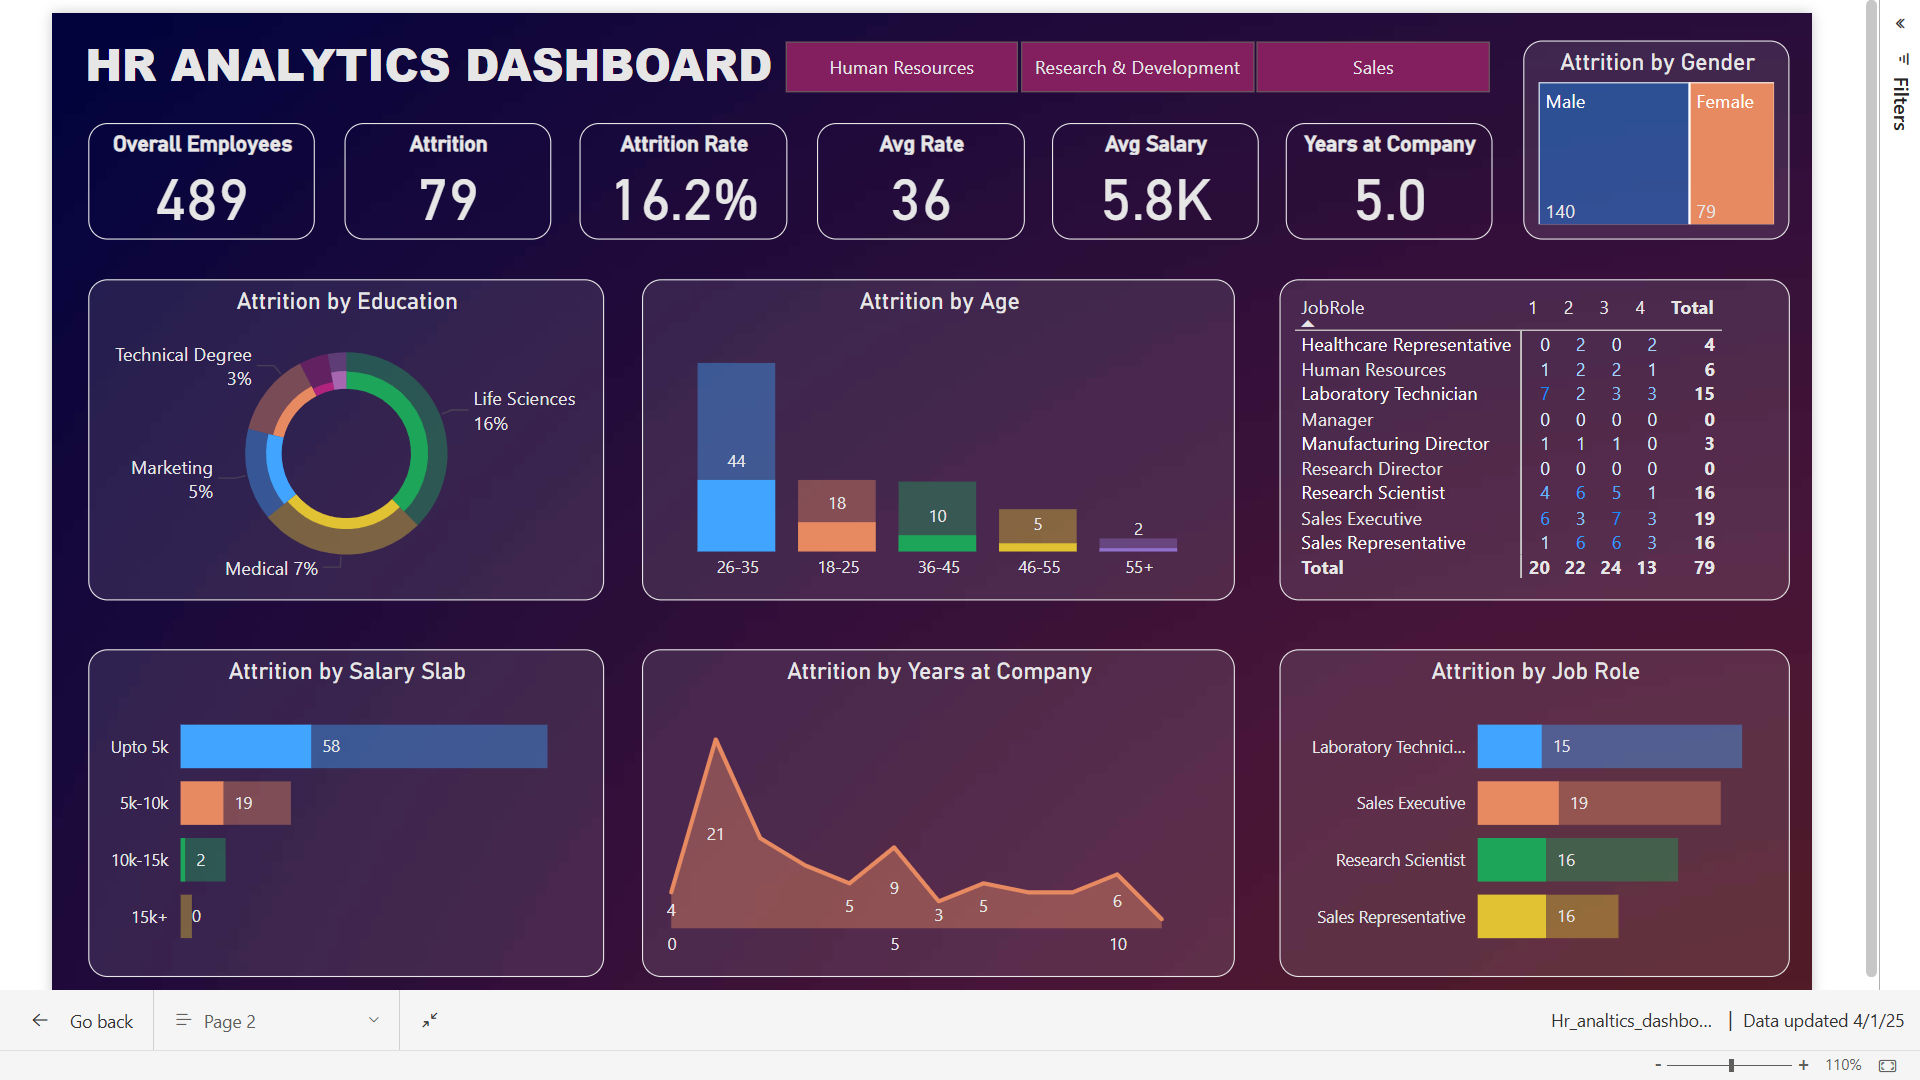

Layout of this report page (visuals, bound fields, positions):
{"tool":"powerbi","page":{"name":"Page 2","canvas":[1280,720],"ordinal":0},"visuals":[{"type":"card","title":"Overall Employees","fields":{"Values":["CountNonNull(HR_Analytics.EmpID)"]},"box":[26.2,80,165,85],"z":0},{"type":"card","title":"Avg Rate","fields":{"Values":["Avg(HR_Analytics.Age)"]},"box":[556.2,80,151.2,85],"z":1000},{"type":"card","title":"Attrition Rate","fields":{"Values":["HR_Analytics.AttritionRate"]},"box":[383.8,80,151.2,85],"z":2000},{"type":"card","title":"Attrition","fields":{"Values":["Sum(HR_Analytics.AttritionCount)"]},"box":[212.5,80,150,85],"z":3000},{"type":"card","title":"Avg Salary","fields":{"Values":["Avg(HR_Analytics.MonthlyIncome)"]},"box":[727.5,80,150,85],"z":4000},{"type":"card","title":"Years at Company","fields":{"Values":["Avg(HR_Analytics.YearsAtCompany)"]},"box":[897.5,80,150,85],"z":5000},{"type":"donutChart","title":"Attrition by Education","fields":{"Y":["Sum(HR_Analytics.AttritionCount)"],"Category":["HR_Analytics.EducationField"]},"box":[26.2,193.8,375,233.8],"z":6000},{"type":"columnChart","title":"Attrition by Age","fields":{"Category":["HR_Analytics.AgeGroup"],"Y":["Sum(HR_Analytics.AttritionCount)"]},"box":[428.8,193.8,431.2,233.8],"z":7000},{"type":"pivotTable","fields":{"Rows":["HR_Analytics.JobRole"],"Columns":["HR_Analytics.JobSatisfaction"],"Values":["Sum(HR_Analytics.AttritionCount)"]},"box":[892.5,193.8,371.2,233.8],"z":8000},{"type":"barChart","title":"Attrition by Salary Slab","fields":{"Category":["HR_Analytics.SalarySlab"],"Y":["Sum(HR_Analytics.AttritionCount)"]},"box":[26.2,462.5,375,238.8],"z":9000},{"type":"barChart","title":"Attrition by Job Role","fields":{"Y":["Sum(HR_Analytics.AttritionCount)"],"Category":["HR_Analytics.JobRole"]},"box":[892.5,462.5,371.2,238.8],"z":10000},{"type":"stackedAreaChart","title":"Attrition by Years at Company","fields":{"Y":["Sum(HR_Analytics.AttritionCount)"],"Category":["HR_Analytics.YearsAtCompany"]},"box":[428.8,462.5,431.2,238.8],"z":11000},{"type":"treemap","title":"Attrition by Gender","fields":{"Group":["HR_Analytics.Gender"],"Values":["Sum(HR_Analytics.AttritionCount)"]},"box":[1070,20,193.8,145],"z":12000},{"type":"slicer","fields":{"Values":["HR_Analytics.Department"]},"box":[507.5,13.8,562.5,51.2],"z":13000},{"type":"textbox","box":[18.8,8.8,521.2,62.5],"z":14000}]}

Visuals, with their boxes in screenshot pixels (x1, y1, x2, y2):
"Overall Employees" card: BBox(42, 99, 278, 220)
"Avg Rate" card: BBox(799, 99, 1014, 220)
"Attrition Rate" card: BBox(553, 99, 768, 220)
"Attrition" card: BBox(308, 99, 522, 220)
"Avg Salary" card: BBox(1043, 99, 1257, 220)
"Years at Company" card: BBox(1286, 99, 1500, 220)
"Attrition by Education" donutChart: BBox(42, 262, 577, 595)
"Attrition by Age" columnChart: BBox(617, 262, 1232, 595)
pivotTable - HR_Analytics.JobRole x HR_Analytics.JobSatisfaction: BBox(1278, 262, 1808, 595)
"Attrition by Salary Slab" barChart: BBox(42, 645, 577, 986)
"Attrition by Job Role" barChart: BBox(1278, 645, 1808, 986)
"Attrition by Years at Company" stackedAreaChart: BBox(617, 645, 1232, 986)
"Attrition by Gender" treemap: BBox(1532, 14, 1808, 220)
slicer - HR_Analytics.Department: BBox(729, 5, 1532, 78)
textbox: BBox(32, 0, 775, 87)
